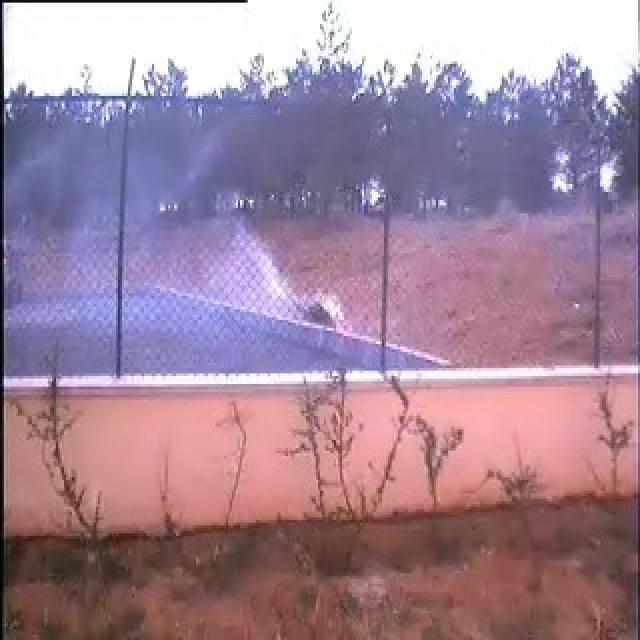smoke: (63, 129, 317, 367)
